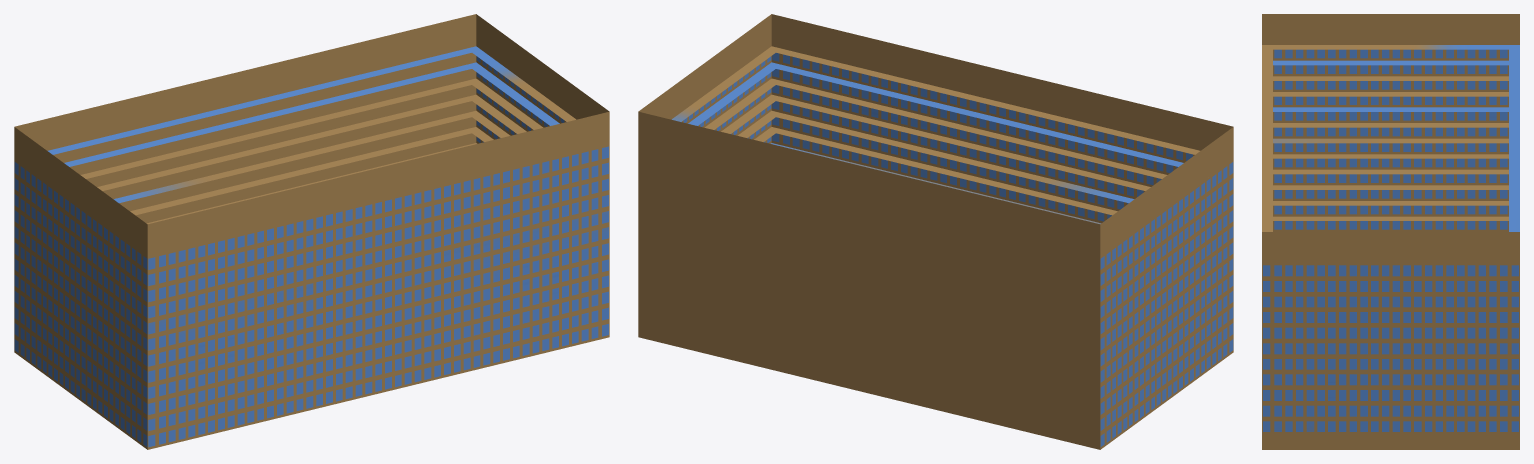
File: Kivotos Metropolitan Subway Building.fbx
3 renders of one model, left to right at view 1: azimuth 30°, elevation 25°; view 2: azimuth 150°, elevation 25°; view 3: azimuth 270°, elevation 25°, orthographic. The views are drawn at different scales.
Parts seen in each view (by area): view 1: 立方体; view 2: 立方体; view 3: 立方体.
Boxes of the visible parts, left/top/right/bottom form: 立方体: left=14, top=14, right=609, bottom=449; 立方体: left=638, top=14, right=1233, bottom=449; 立方体: left=1262, top=14, right=1519, bottom=449.
Size of the model in its own units: 12000 by 6000 by 5600.
